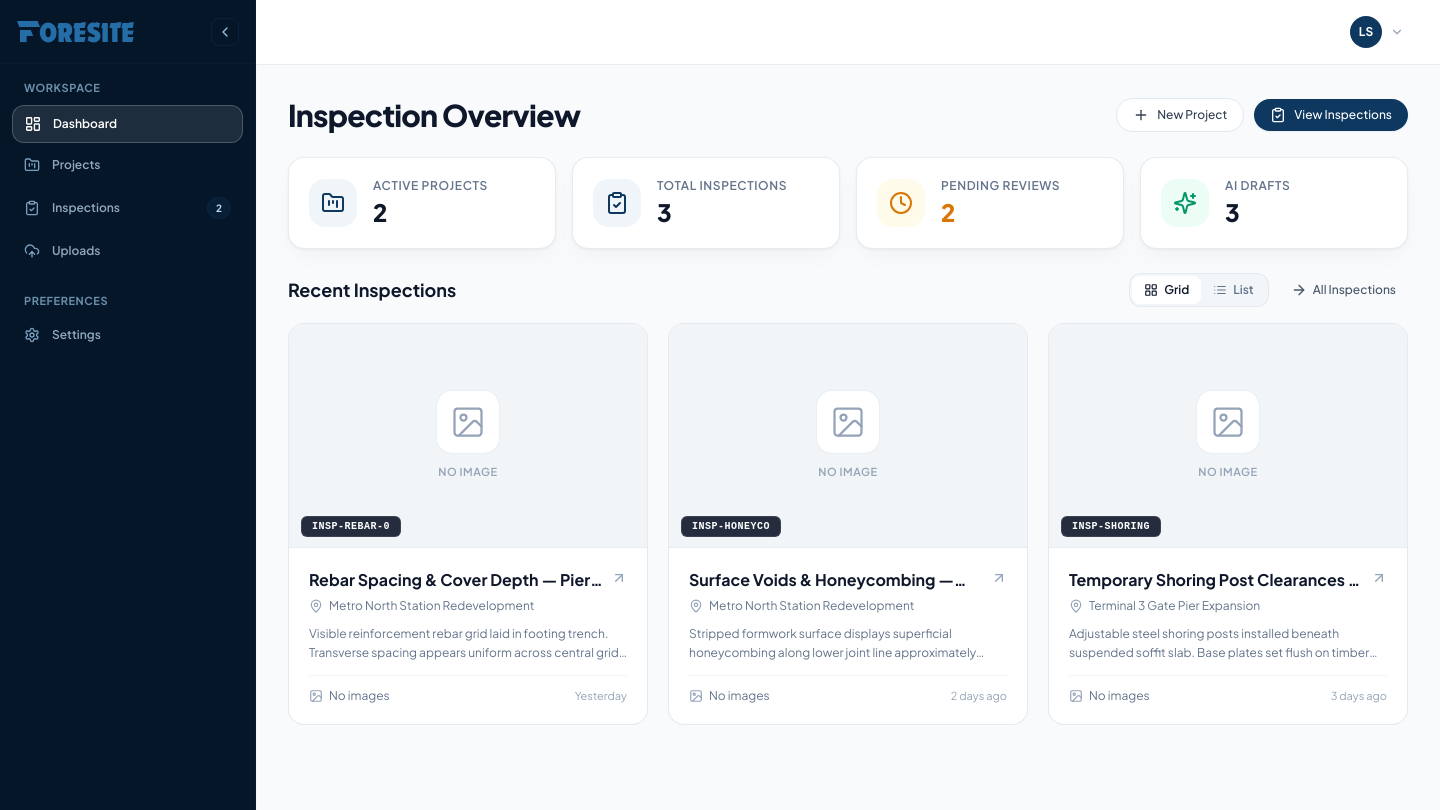
Scenario: ForeSite Application Shell Navigation › navigates to Settings screen and shows storage configuration
Click the button "Settings".
click(128, 335)  # box [12,317,243,353]
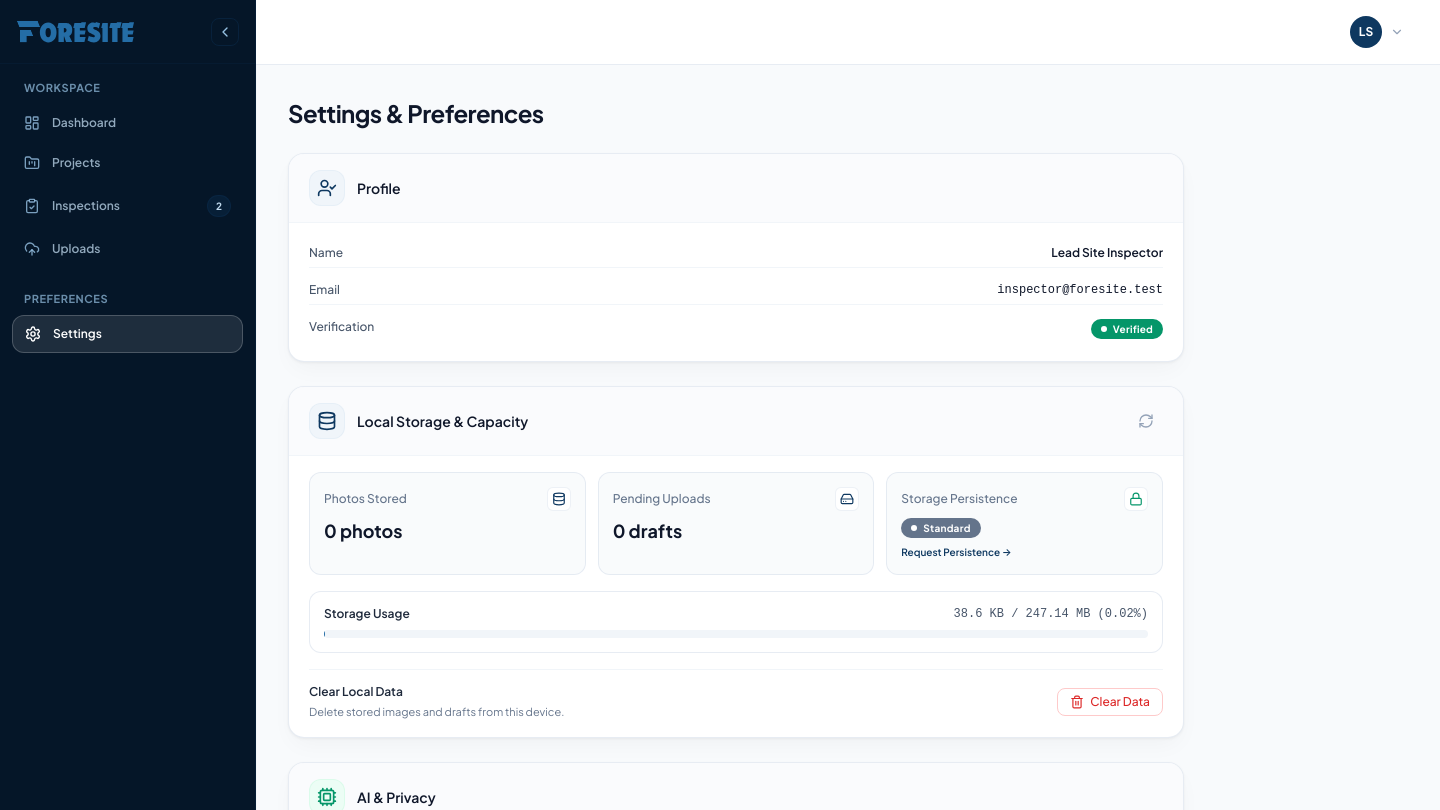
Now the heading "Settings & Preferences" is shown, box [288,98,544,128]
Now the heading "Local Storage & Capacity" is shown, box [357,411,528,431]
